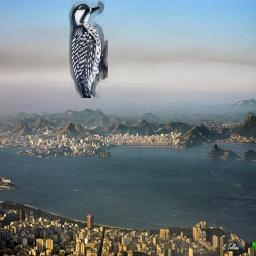Woodpecker: (69, 0, 108, 98)
